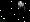person: (18, 3, 25, 16)
